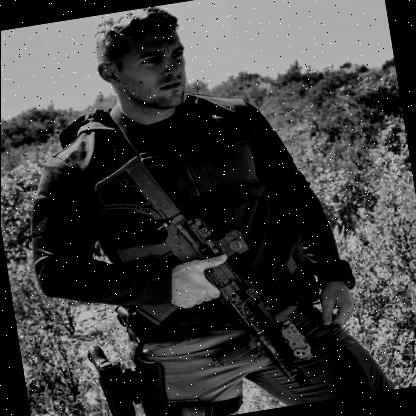rifle: (82, 130, 317, 416), (80, 340, 139, 416)
